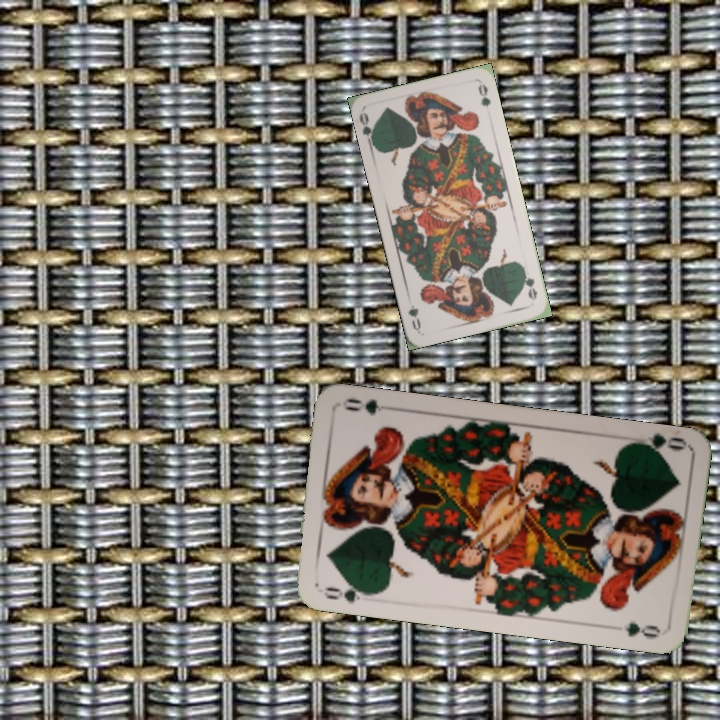GO: (627, 430, 687, 458), (319, 578, 375, 606), (355, 109, 378, 149), (519, 264, 540, 303)
